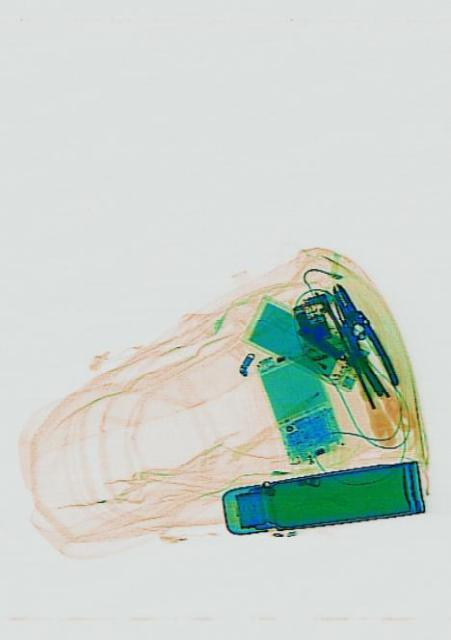Pliers: (320, 273, 400, 401)
